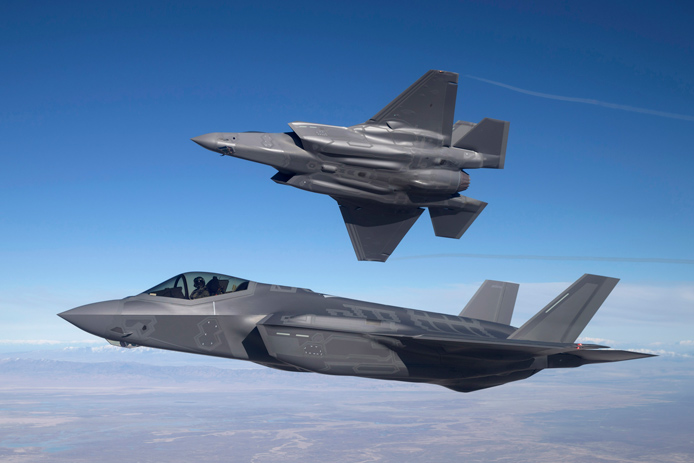F-35 Lightning: (44, 228, 680, 437), (165, 53, 534, 275)
